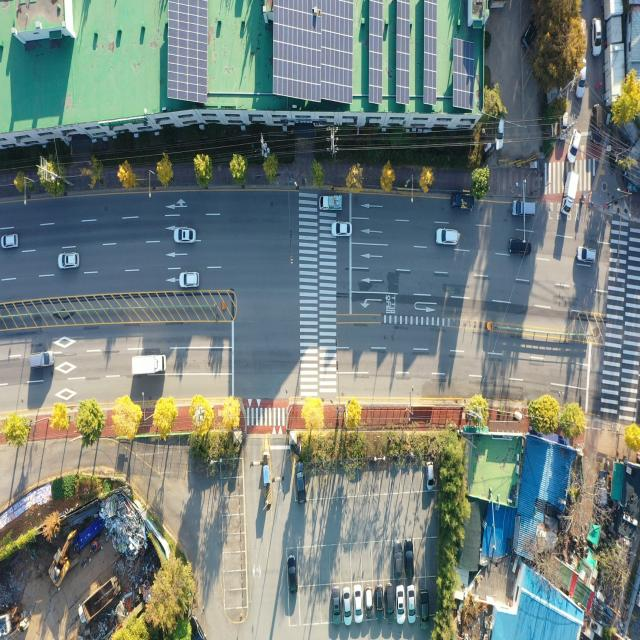car: (420, 587, 431, 628), (392, 541, 403, 579), (514, 201, 538, 218), (30, 351, 54, 368), (522, 20, 536, 49), (568, 130, 580, 163), (437, 230, 460, 247), (576, 61, 586, 100), (406, 538, 415, 578), (591, 104, 601, 140), (295, 464, 304, 504), (510, 240, 531, 257), (174, 229, 196, 245), (288, 556, 297, 593), (365, 587, 375, 620), (60, 252, 80, 268), (578, 246, 598, 262), (495, 119, 505, 150), (594, 19, 602, 57), (332, 221, 352, 236), (180, 273, 198, 289), (0, 234, 18, 250), (409, 588, 417, 622), (561, 114, 570, 143), (334, 594, 342, 626), (355, 586, 362, 622), (397, 587, 404, 623), (344, 588, 351, 623), (386, 586, 393, 621), (377, 587, 384, 619), (427, 464, 434, 492)
medium_truck: (75, 573, 122, 626), (132, 354, 166, 375)
small_truck: (563, 172, 579, 217), (450, 195, 474, 212), (319, 196, 342, 213)
